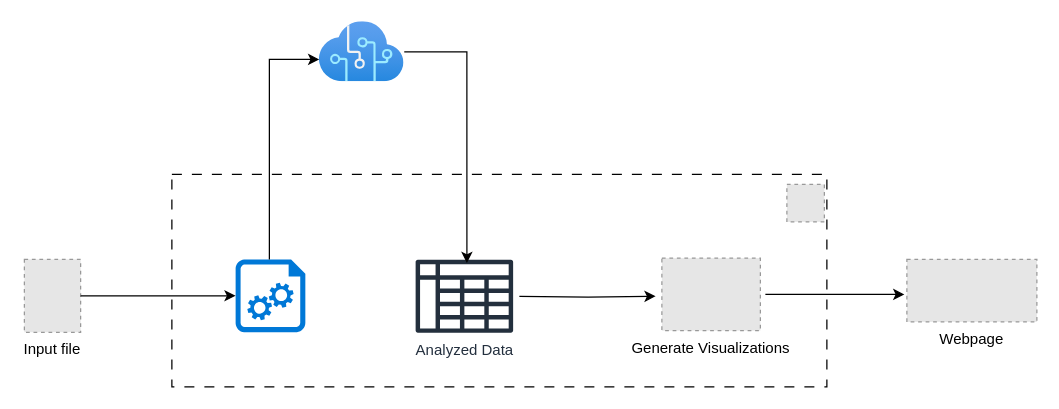
This 1059x409 diagram has some shape labels left out. Grey dashed boxes stand in for pictures. The centre of each missing label's shape, as x and y in pixels:
Azure AI Service: the point at 361,51
Preprocess: the point at 270,295
